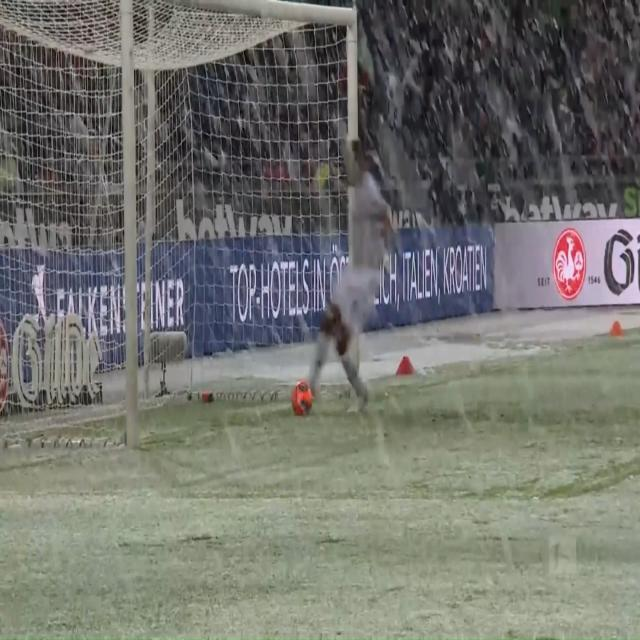ball: (285, 372, 315, 423)
player: (304, 123, 400, 428)
